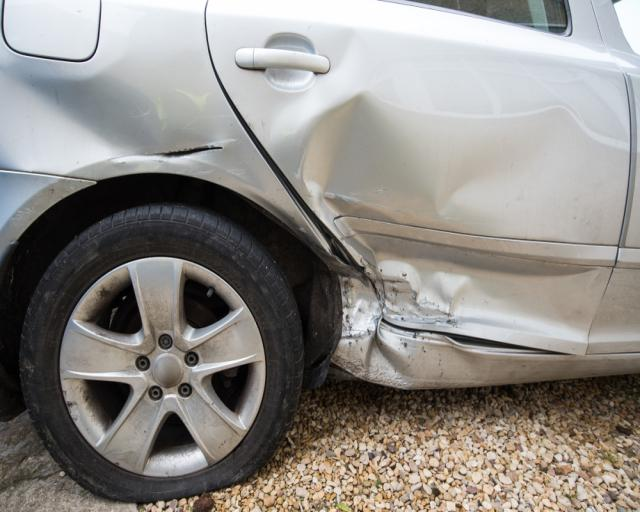crack: (145, 145, 226, 159)
dent: (277, 29, 622, 339), (327, 245, 482, 383), (13, 66, 164, 175)
tire flat: (22, 202, 307, 504)
